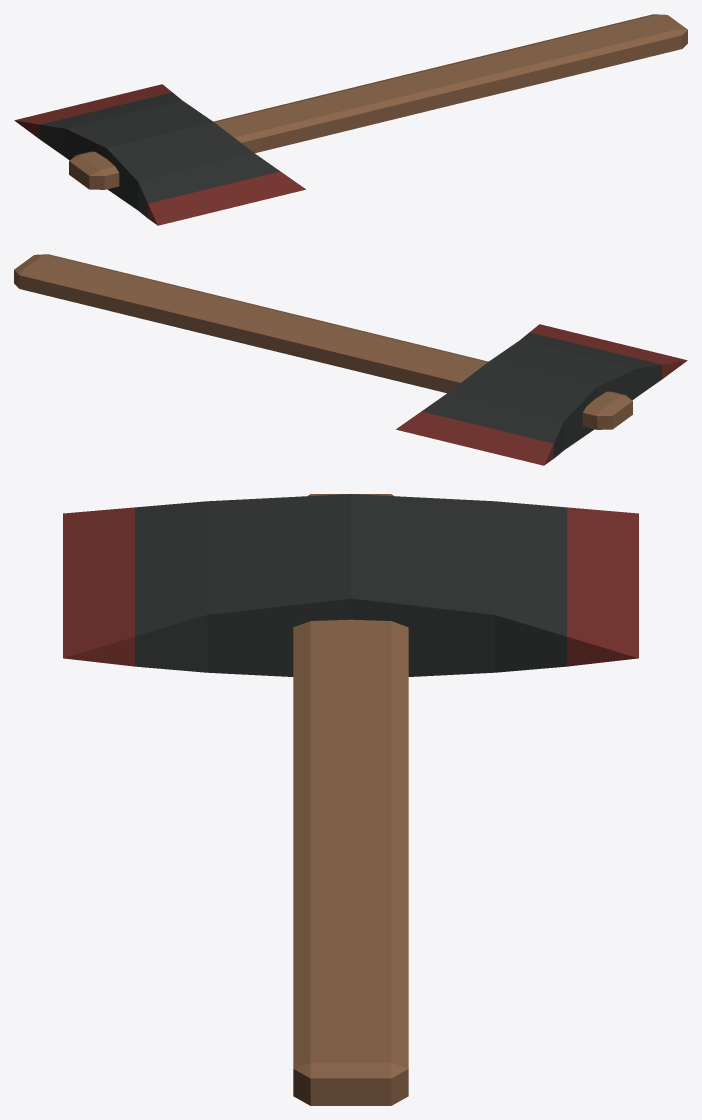
Rendered from Axe_2_Light_Brown.fbx.
3 views of the same model, one above another, from view 1: azimuth 30°, elevation 25°; view 2: azimuth 150°, elevation 25°; view 3: azimuth 270°, elevation 25° (orthographic). The views are drawn at different scales.
Visible parts, largest first — view 1: Axe_2_Light_Brown; view 2: Axe_2_Light_Brown; view 3: Axe_2_Light_Brown.
Boxes of the visible parts, x1,y1,x2,y2 form: Axe_2_Light_Brown: [14, 14, 687, 225]; Axe_2_Light_Brown: [14, 254, 687, 465]; Axe_2_Light_Brown: [63, 494, 638, 1105].
Size of the model in its own units: 96 by 6.23 by 40.
